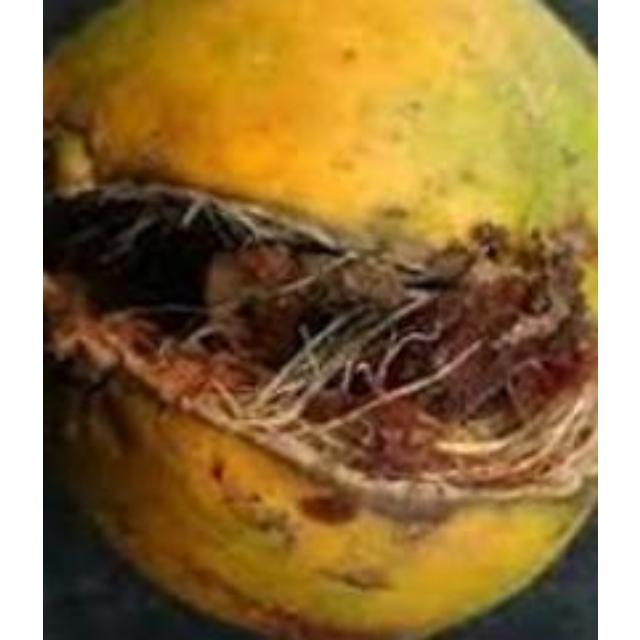damaged: (42, 0, 594, 637)
